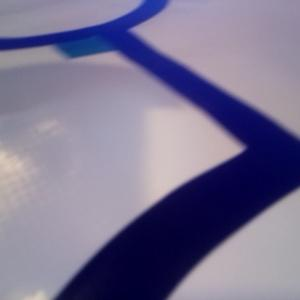bottom_left: (54, 32, 128, 57)
